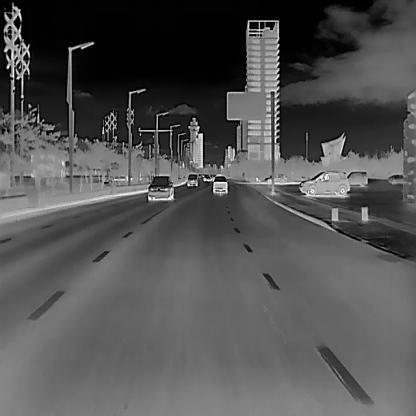car: (298, 169, 350, 197), (146, 175, 174, 201), (347, 170, 368, 186), (212, 174, 227, 193), (265, 171, 287, 183), (389, 173, 402, 185), (187, 172, 197, 186)
